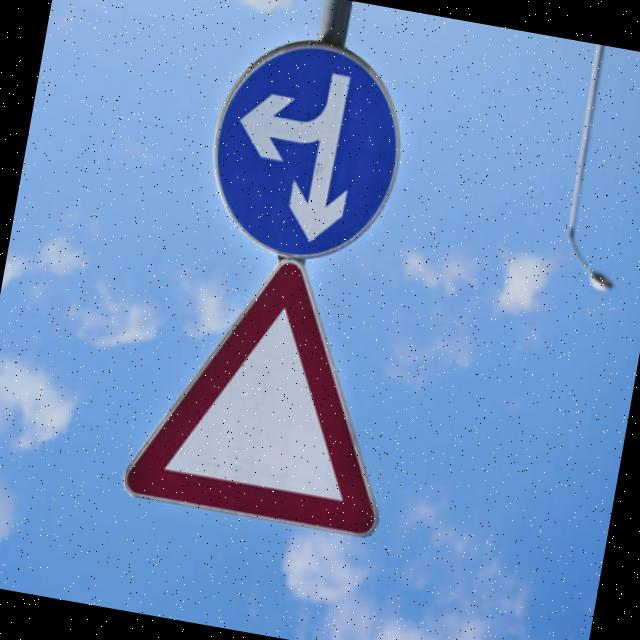give_way: (96, 236, 422, 555)
